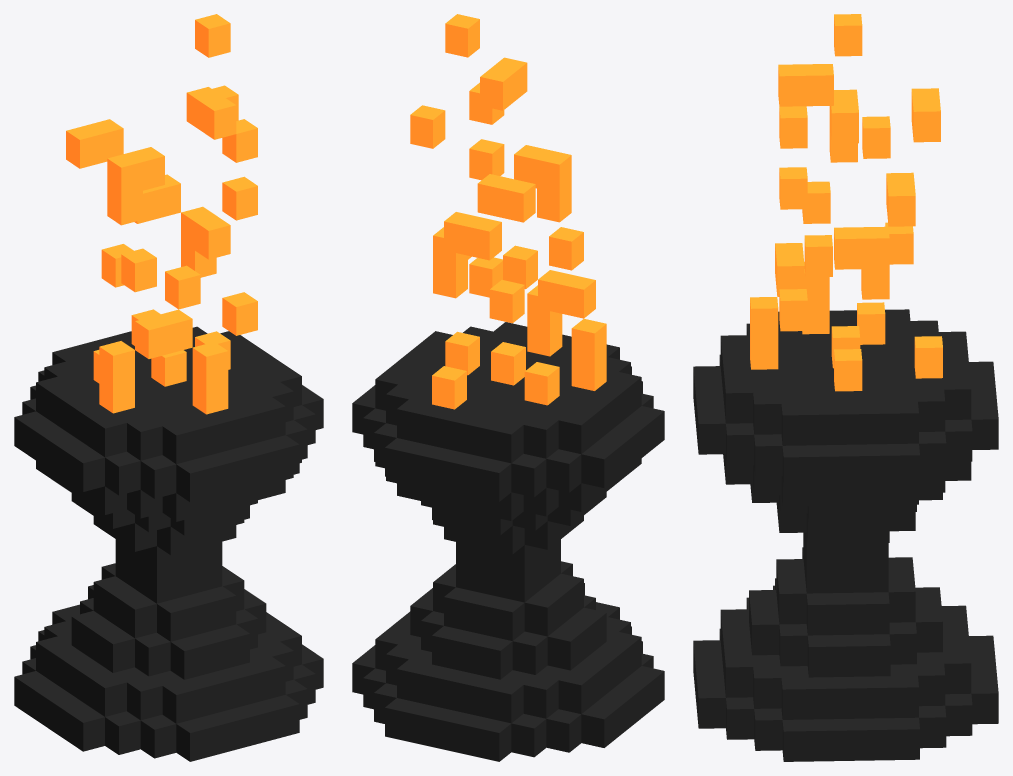
The model's file is lavalamp_0_lev1_lev3.glb.
3 renders of one model, left to right at view 1: azimuth 30°, elevation 25°; view 2: azimuth 150°, elevation 25°; view 3: azimuth 270°, elevation 25°, orthographic. The views are drawn at different scales.
Parts seen in each view (by area): view 1: lavalamp_0_lev1_lev3; view 2: lavalamp_0_lev1_lev3; view 3: lavalamp_0_lev1_lev3.
Part boxes in pixels (bbox=[...]): lavalamp_0_lev1_lev3: bbox=[14, 14, 323, 761]; lavalamp_0_lev1_lev3: bbox=[352, 14, 664, 761]; lavalamp_0_lev1_lev3: bbox=[693, 14, 998, 761].
Bounding box in the file's own units: 0.3351 × 0.8482 × 0.3351.
Materials: 1 (1 with a texture image).
